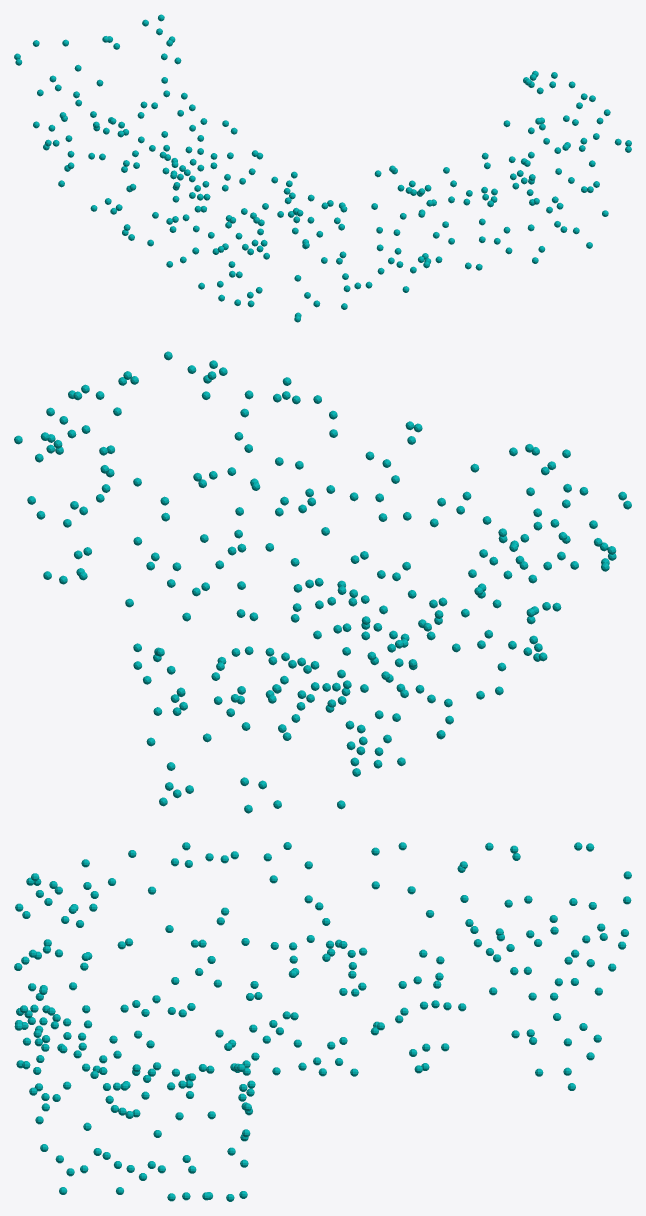
The picture shows the model from 3 angles, top to bottom: view 1: azimuth 30°, elevation 25°; view 2: azimuth 150°, elevation 25°; view 3: azimuth 270°, elevation 25°; orthographic projection. The views are drawn at different scales.
Size of the model in its own units: 0.934 by 0.2972 by 1.02.
